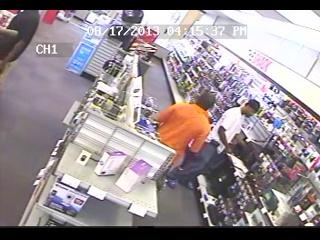Normal: (168, 99, 262, 193), (155, 91, 217, 173), (0, 10, 40, 73)
